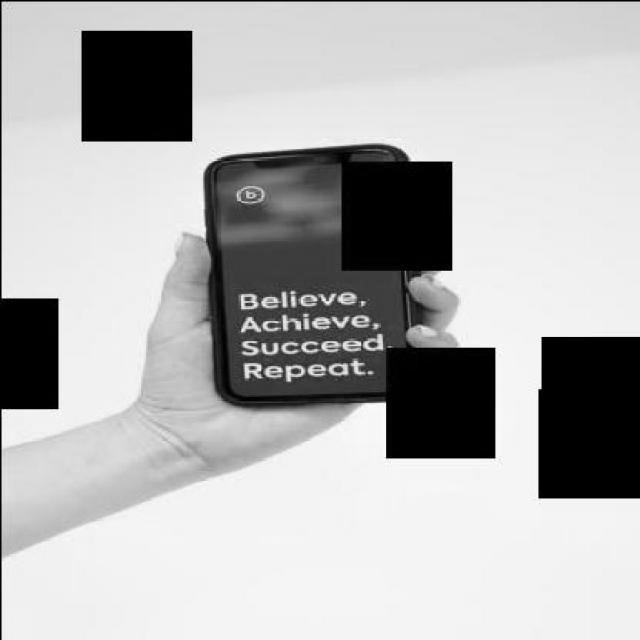fake: (202, 140, 427, 398)
